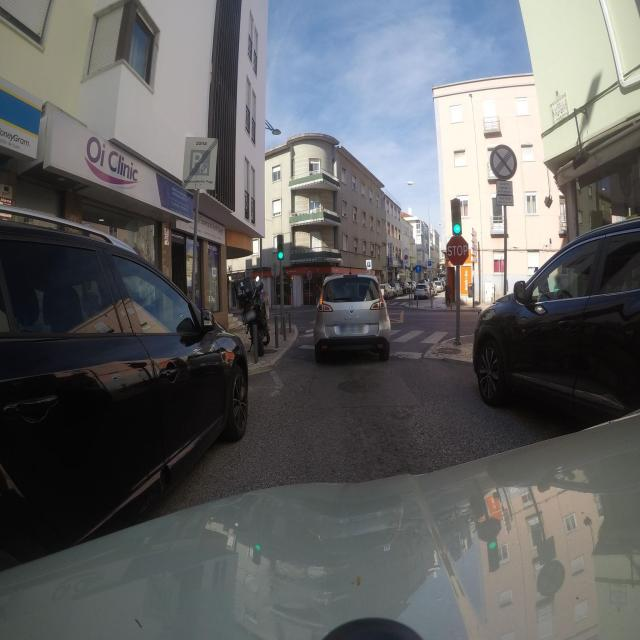forb_stopping: (307, 271, 312, 280)
